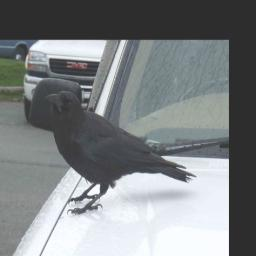Crow: (46, 89, 195, 217)
